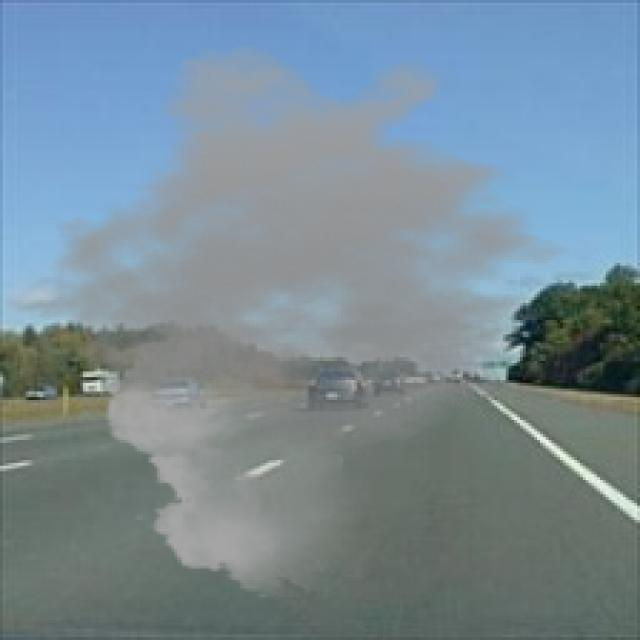Smoke: (34, 43, 597, 600)
